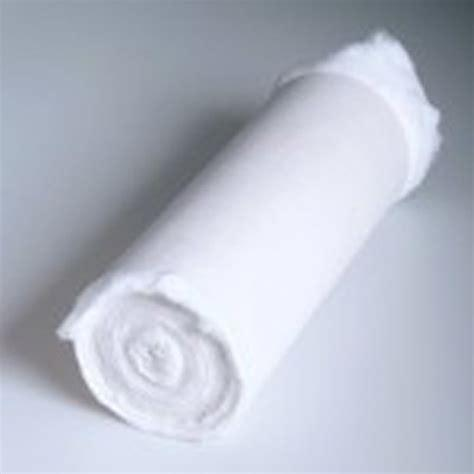cotton: (18, 30, 453, 452)
